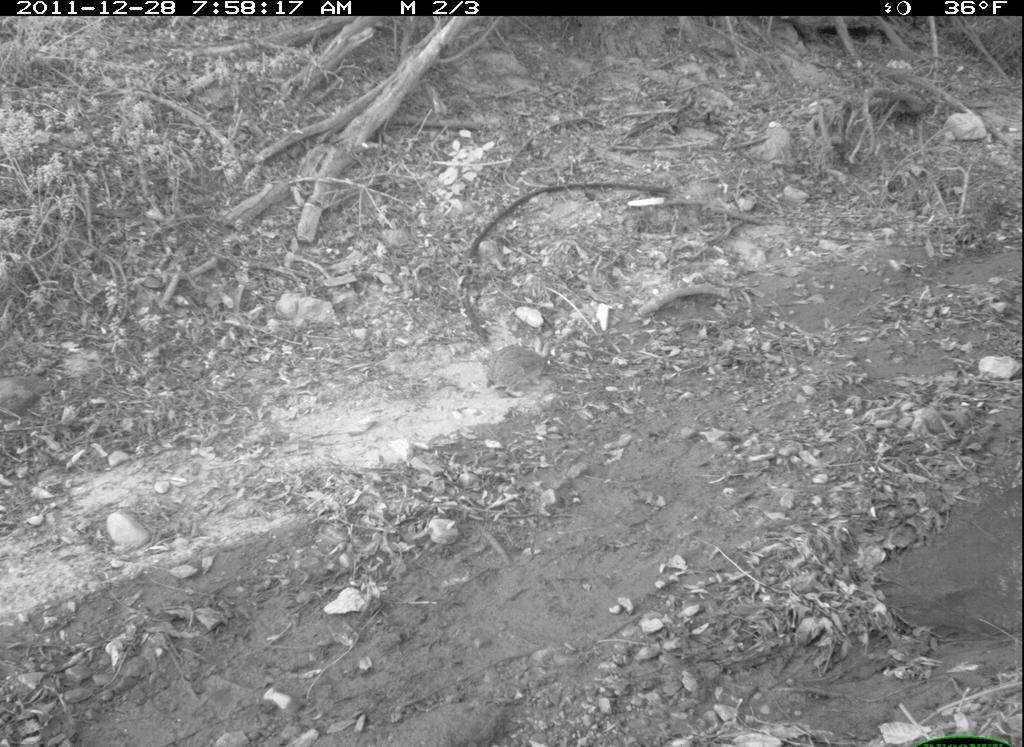rabbit: (481, 329, 560, 406)
